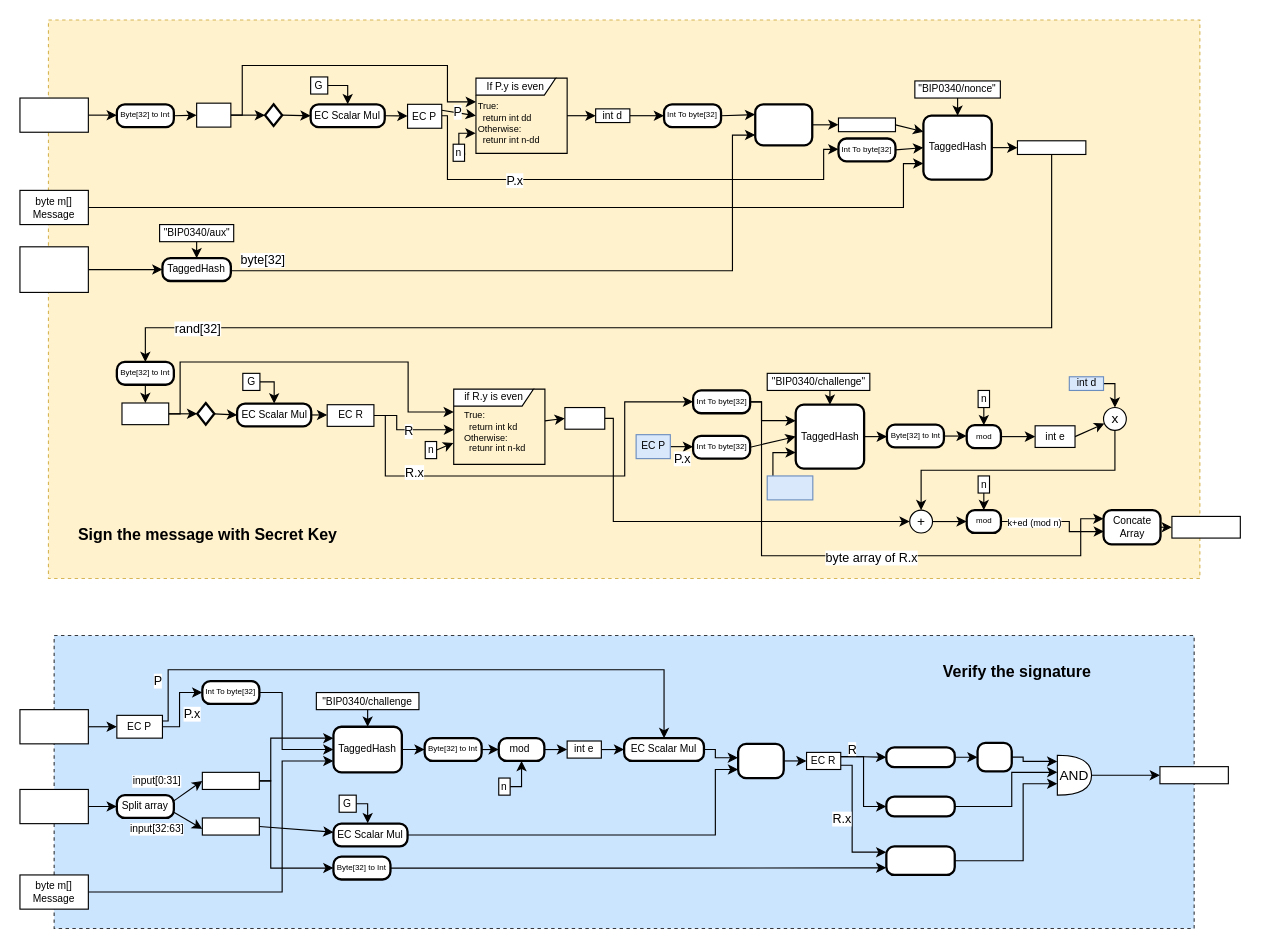
This 1261x948 diagram has some shape labels left out. Here are the shapes that lost their labels. From the top down, the centre of each, then its label:
At point 53,114: "byte pk[32] Secret Key".
At point 213,114: "int dd".
At point 783,124: "XOR Each corresponding Byte".
At point 866,124: "byte t[32]".
At point 1051,147: "byte rand[32]".
At point 53,269: "byte a[32] Aux Random Num".
At point 145,413: "int kd".
At point 584,417: "int k".
At point 789,487: "byte m[]".
At point 1205,526: "byte sig[64]".
At point 53,726: "byte pk[32] Public Key".
At point 760,760: "EC Sub".
At point 920,757: "EC is Infty?".
At point 994,756: "Not".
At point 1193,775: "bool result".
At point 230,780: "byte r[32]".
At point 53,806: "byte sig[64] Public Key".
At point 230,826: "byte s[32]".
At point 920,806: "EC is even?".
At point 920,860: "Equal?".
